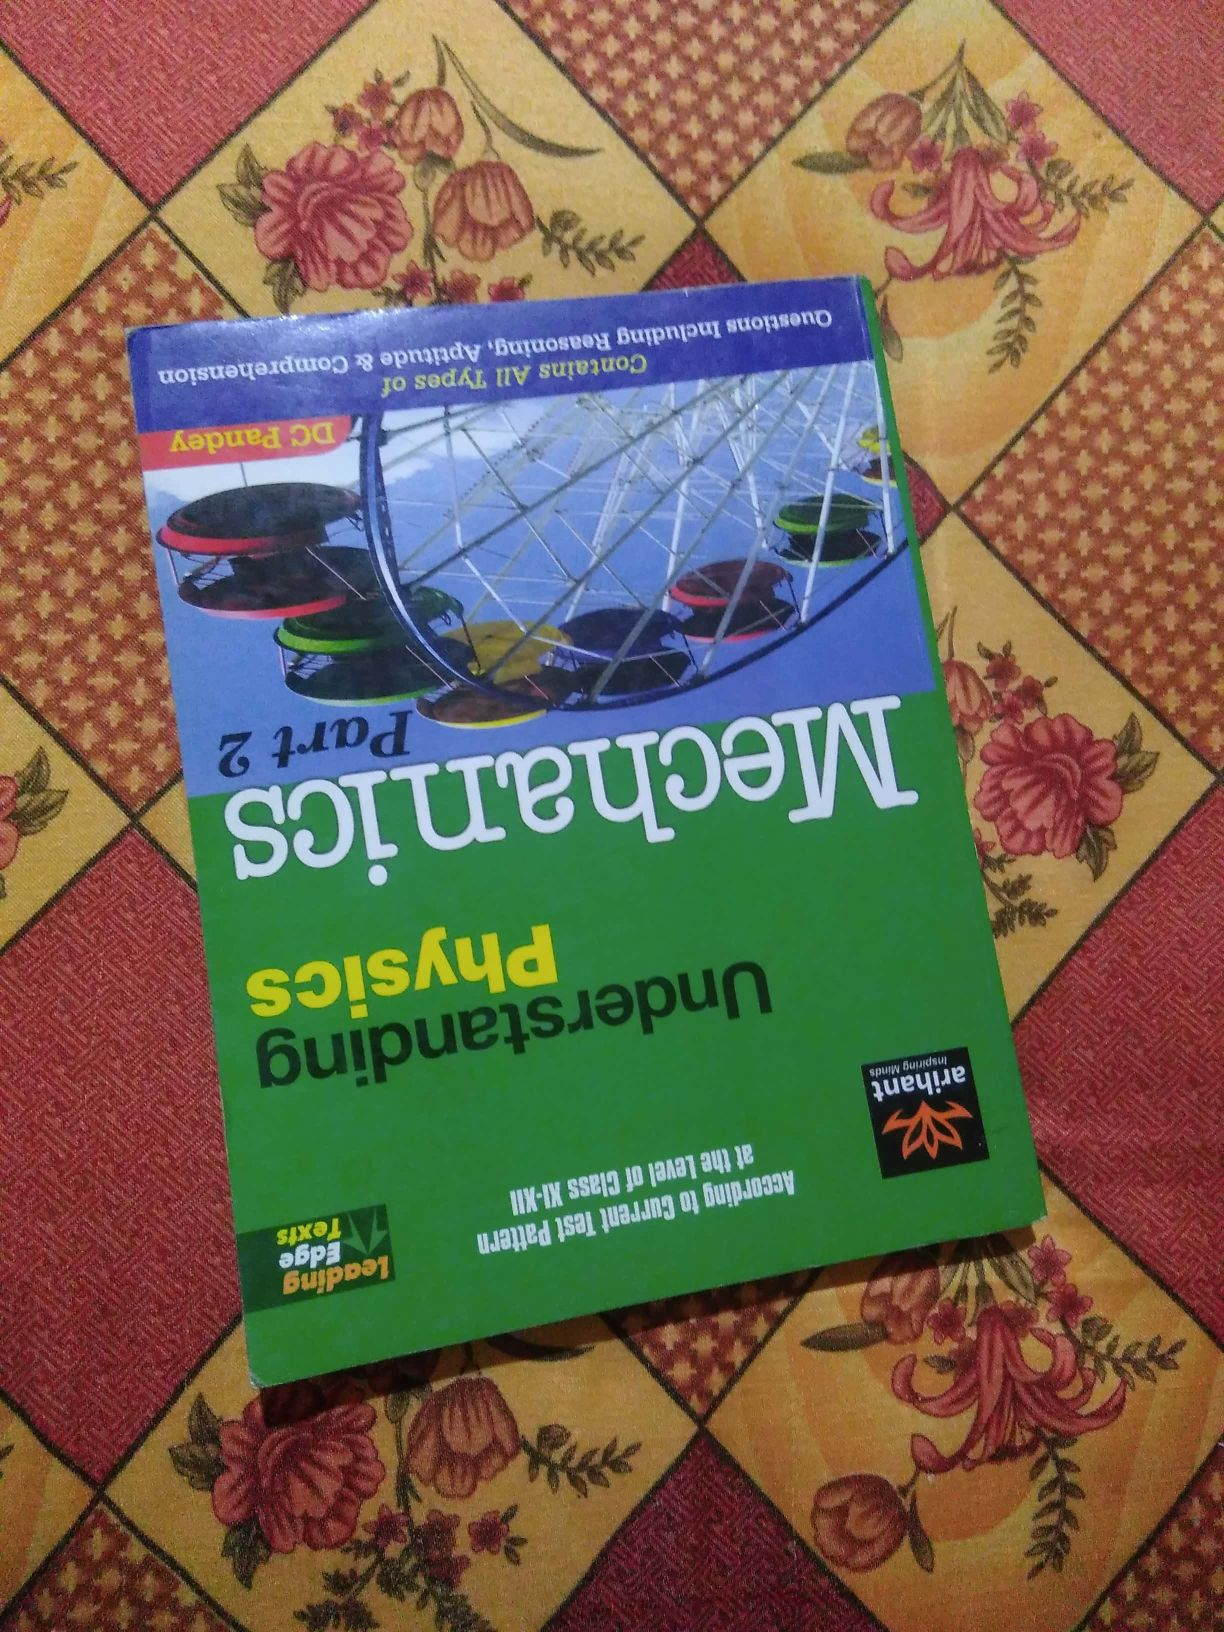mechanics: (87, 271, 1080, 1397)
